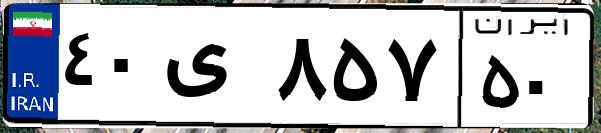0: (525, 38, 570, 115), (110, 28, 158, 98)
4: (57, 26, 110, 100)
5: (330, 28, 385, 110), (475, 38, 525, 113)
7: (385, 28, 445, 110)
8: (270, 28, 330, 110)
ی: (158, 20, 270, 120)
